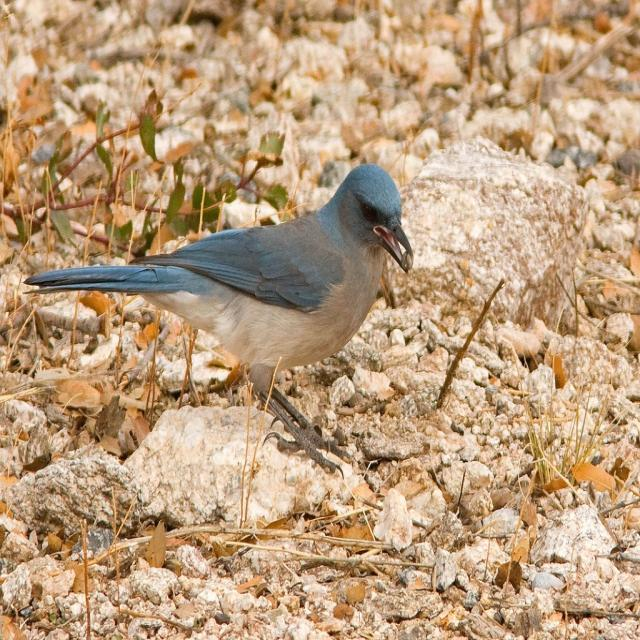bird: (21, 162, 420, 488)
